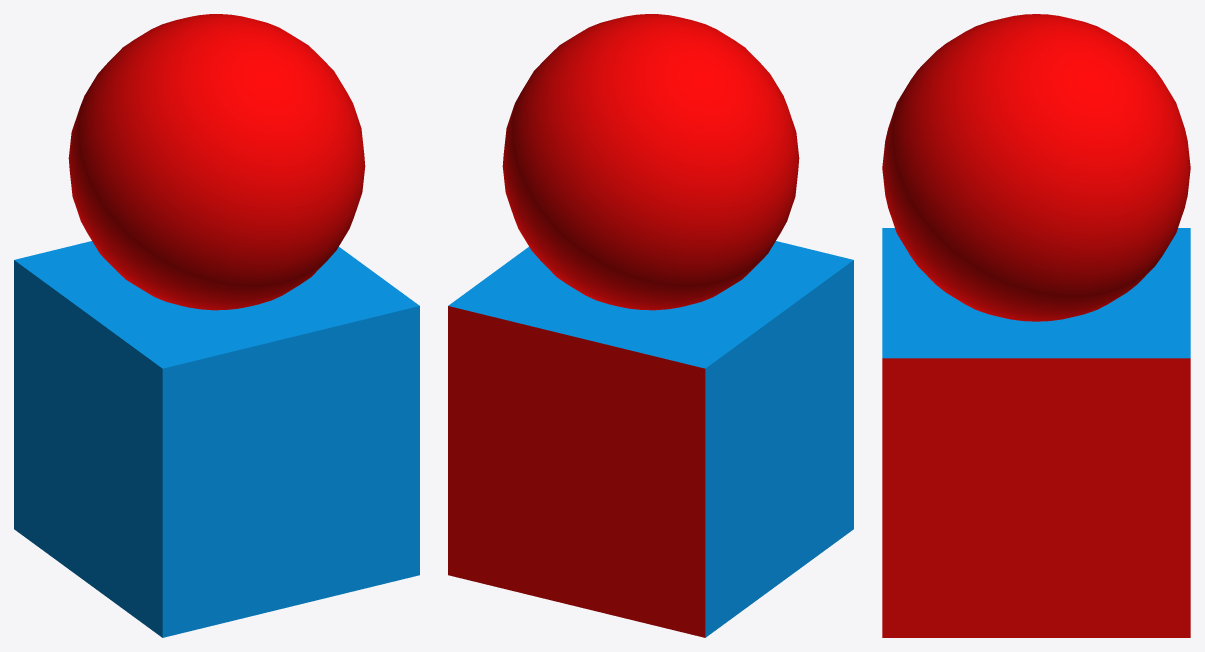
The model's file is BoxBall.FBX.
3 views of the same model, side by side, from view 1: azimuth 30°, elevation 25°; view 2: azimuth 150°, elevation 25°; view 3: azimuth 270°, elevation 25° (orthographic). The views are drawn at different scales.
Parts seen in each view (by area): view 1: BoxBall; view 2: BoxBall; view 3: BoxBall.
Boxes of the visible parts, <box> form: BoxBall: <box>14,14,419,637</box>; BoxBall: <box>448,14,853,637</box>; BoxBall: <box>882,14,1190,637</box>.
Size of the model in its own units: 10 by 19.48 by 10.
